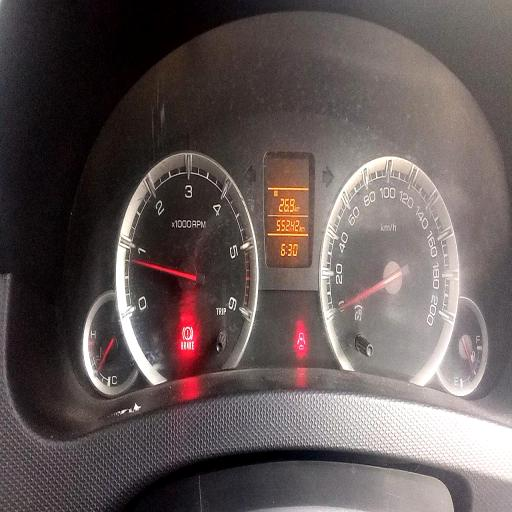brake_system_fault: (182, 326, 193, 341)
tachometer: (116, 149, 259, 385)
